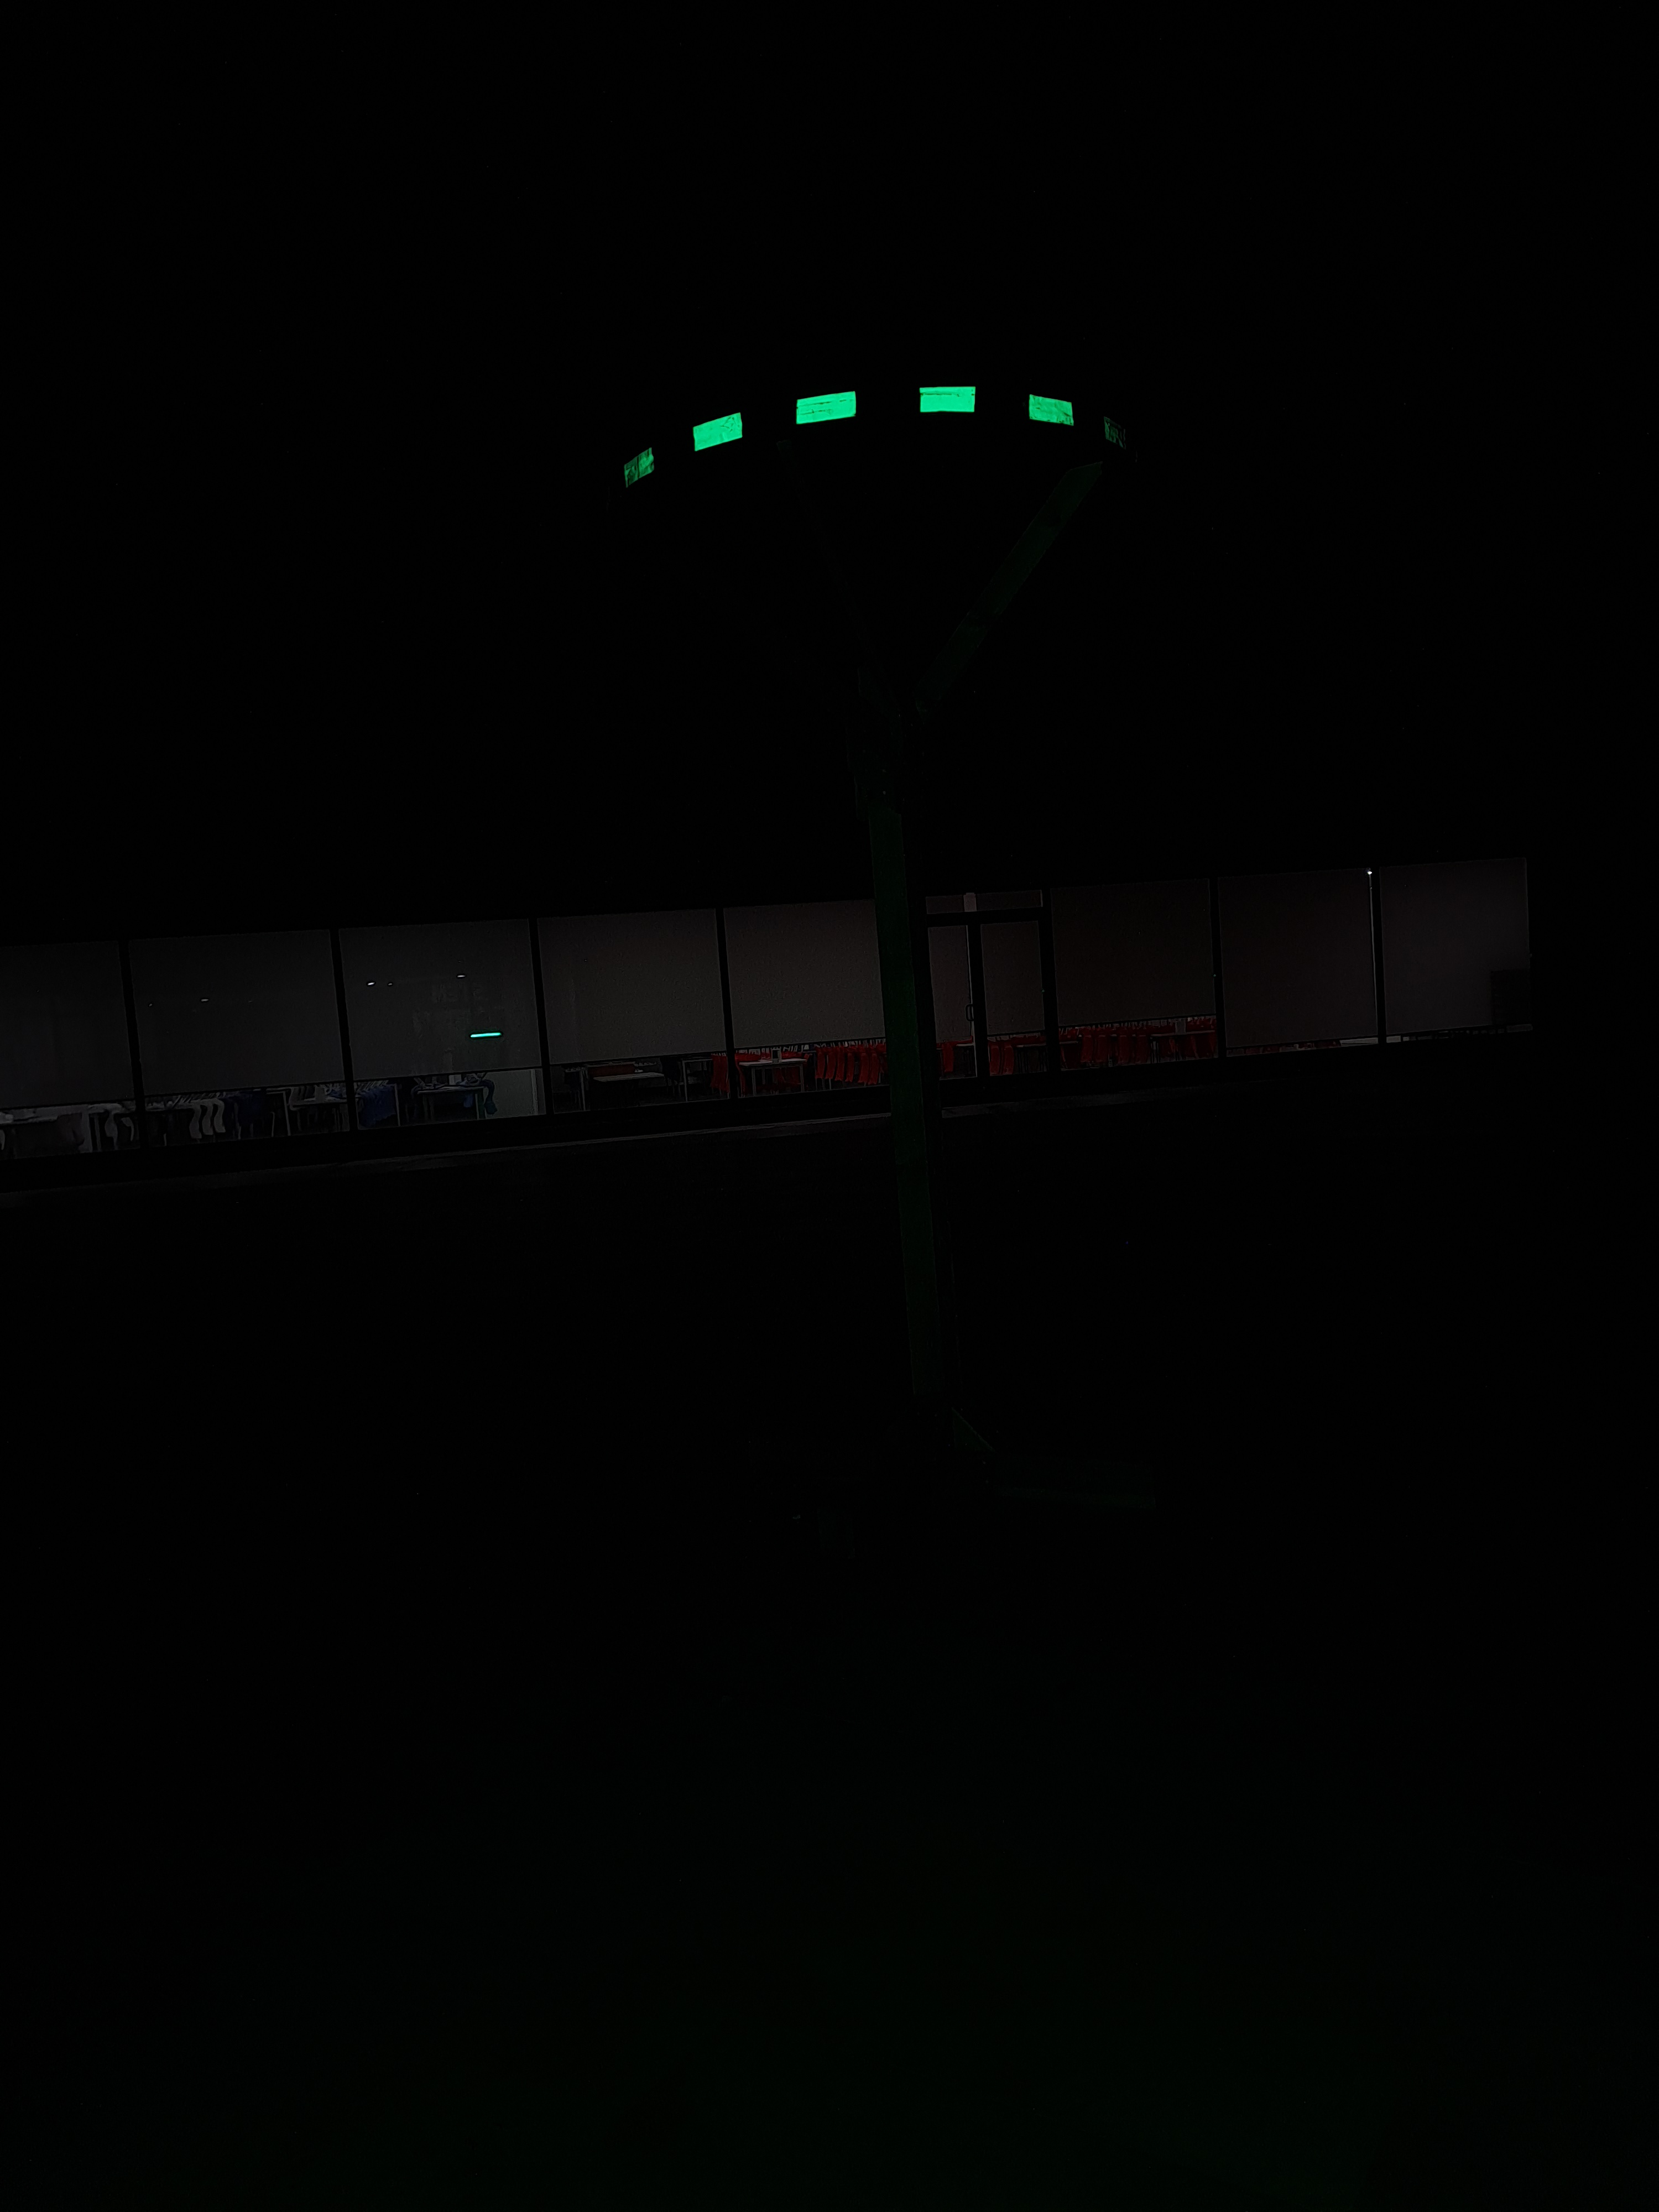hoop: (610, 381, 1080, 481)
